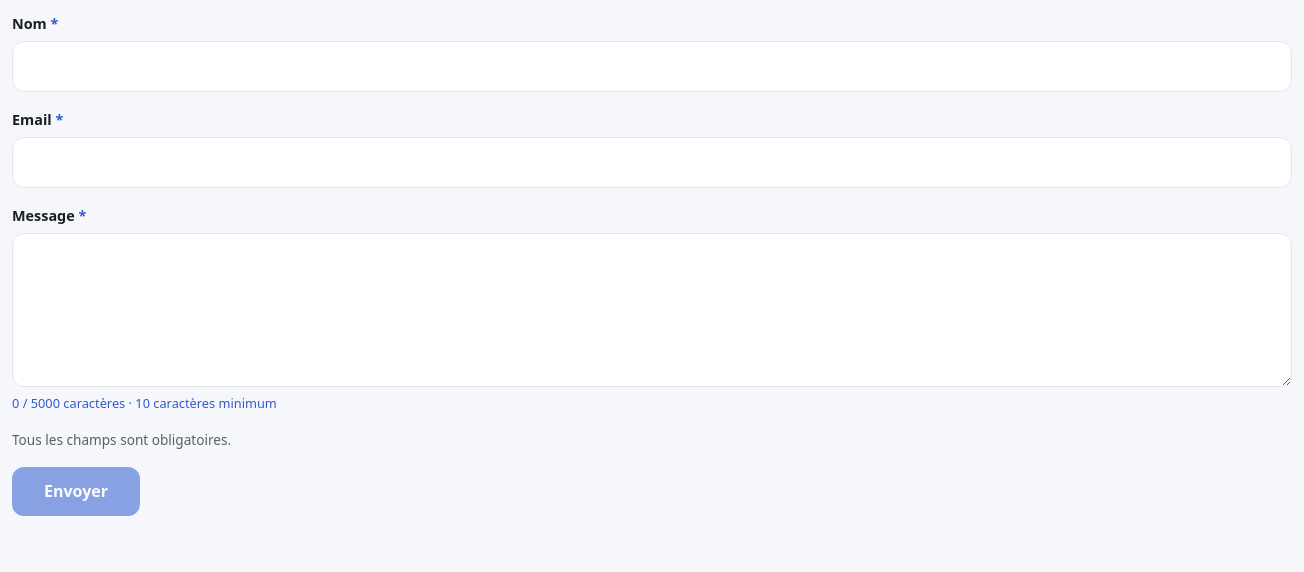
ContactForm › envoie et affiche un succès
Type "Rudy" into the field with id "cf-name".
click(652, 66); type("Rudy")  # box [12,41,1292,92]
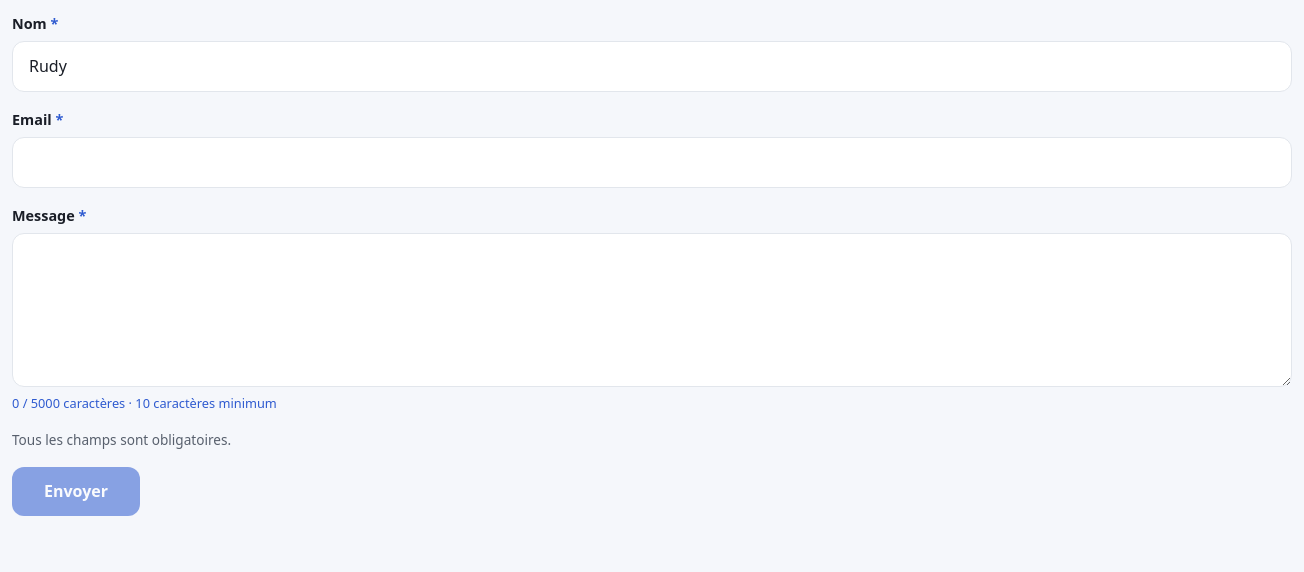
Type "rudy@example.com" into the field with id "cf-email".
click(652, 163); type("rudy@example.com")  # box [12,137,1292,188]
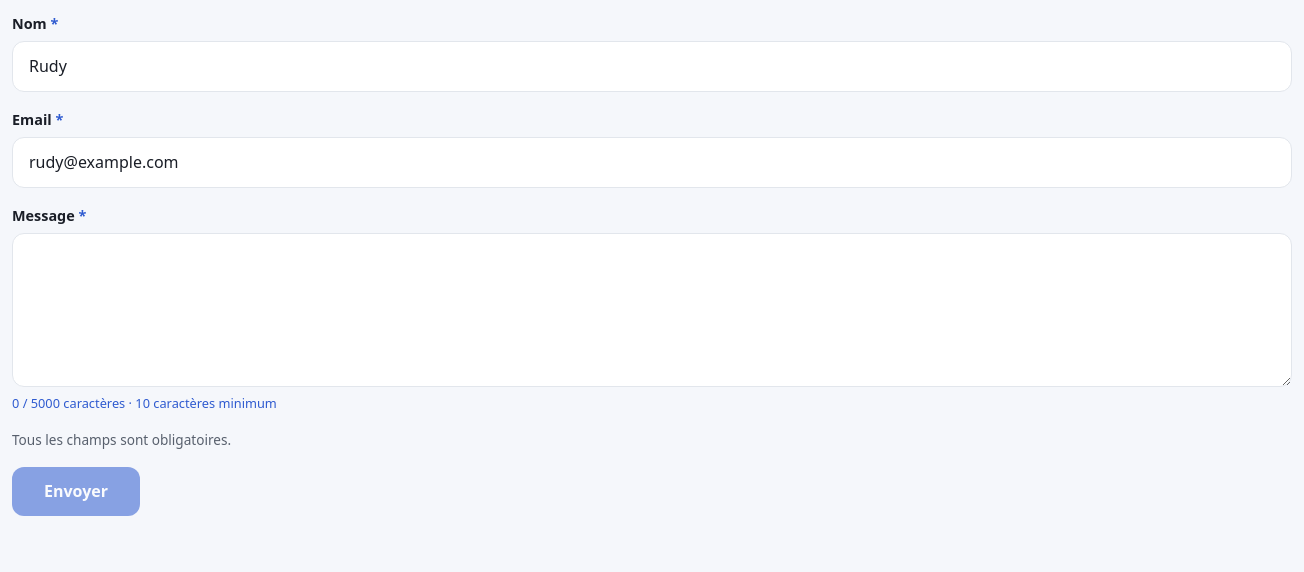
Type "Bonjour, message de test suffisamment long." into the text box with id "cf-message".
click(652, 310); type("Bonjour, message de test suffisamment long.")  # box [12,233,1292,387]
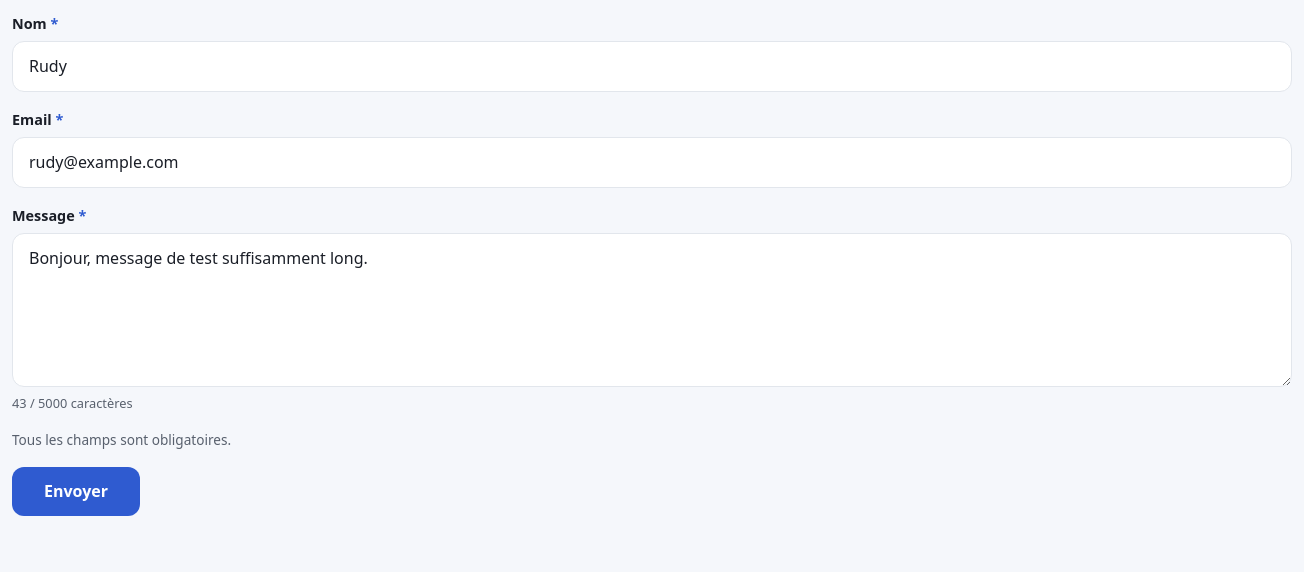
Submit the form
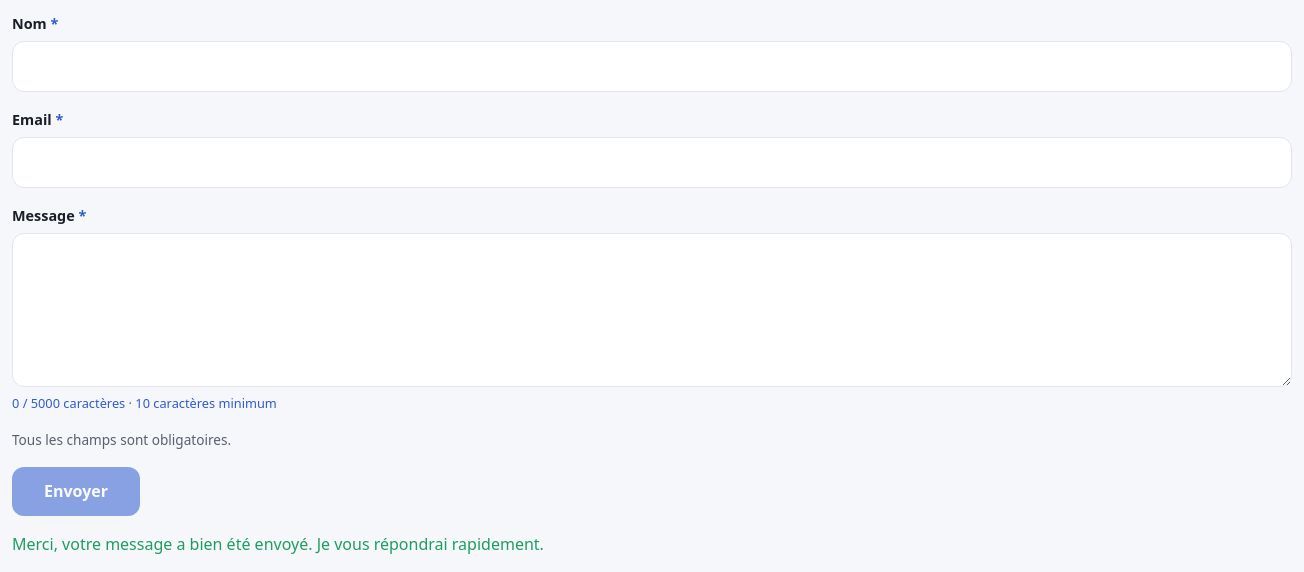
Now the message "Merci, votre message a bien été envoyé. Je vous répondrai rapidement." is shown, box [12,534,544,556]
